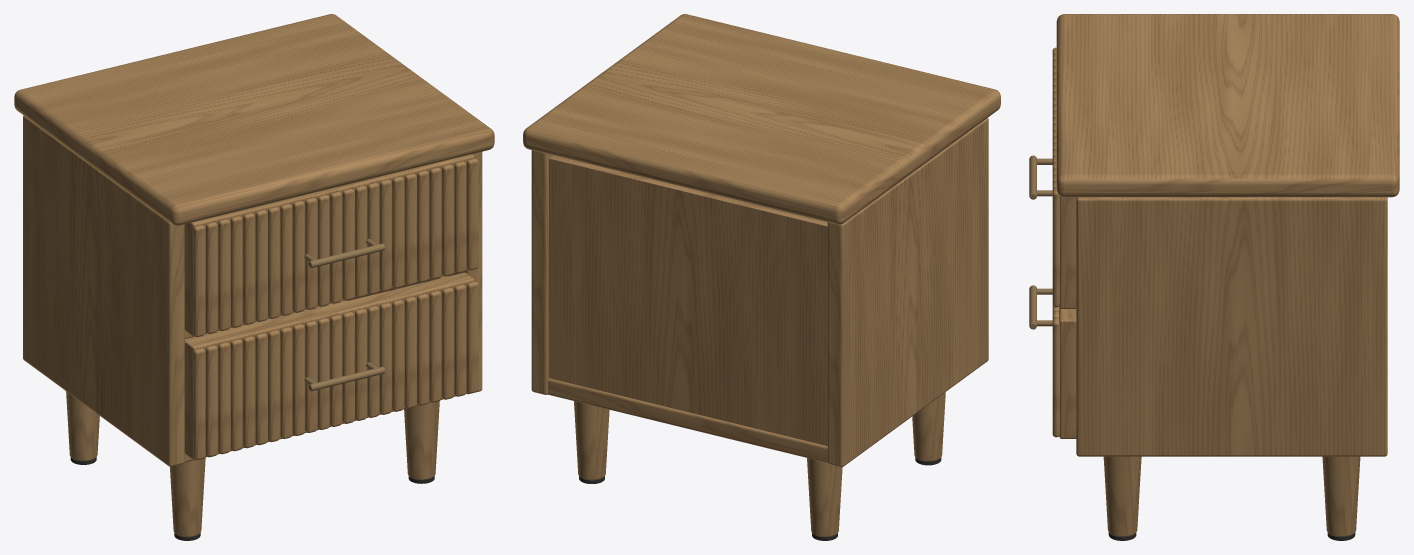
3 views of the same model, side by side, from view 1: azimuth 30°, elevation 25°; view 2: azimuth 150°, elevation 25°; view 3: azimuth 270°, elevation 25° (orthographic). The views are drawn at different scales.
Parts seen in each view (by area): view 1: Top | solid oak overhang, Cabinet | side, Drawer 0 | front core, Drawer 1 | front core, Turned oak leg.002, Turned oak leg, Turned oak leg.001, Drawer 0 | reed 01, Drawer 1 | reed 17, Drawer 1 | reed 19, Drawer 1 | reed 22, Drawer 0 | reed 03 (+44 smaller); view 2: Cabinet | inset back, Top | solid oak overhang, Cabinet | side, Cabinet | bottom, Cabinet | side.001, Turned oak leg.003, Turned oak leg.001, Turned oak leg; view 3: Cabinet | side.001, Top | solid oak overhang, Turned oak leg.002, Turned oak leg.003, Drawer 0 | front core, Drawer 1 | front core, Drawer 0 | reed 22, Drawer 1 | reed 22.
Boxes of the visible parts, x1,y1,x2,y2 form: Top | solid oak overhang: [14, 14, 494, 225]; Cabinet | side: [23, 115, 184, 466]; Drawer 0 | front core: [184, 272, 474, 459]; Drawer 1 | front core: [184, 154, 474, 336]; Turned oak leg.002: [404, 401, 439, 479]; Turned oak leg: [170, 457, 205, 536]; Turned oak leg.001: [66, 391, 99, 460]; Drawer 0 | reed 01: [205, 345, 217, 457]; Drawer 1 | reed 17: [404, 173, 416, 285]; Drawer 1 | reed 19: [429, 167, 441, 279]; Drawer 1 | reed 22: [466, 158, 478, 270]; Drawer 0 | reed 03: [230, 339, 242, 451]; Cabinet | inset back: [549, 155, 827, 445]; Top | solid oak overhang: [523, 14, 1000, 224]; Cabinet | side: [827, 118, 988, 467]; Cabinet | bottom: [547, 378, 827, 462]; Cabinet | side.001: [531, 150, 552, 394]; Turned oak leg.003: [574, 401, 609, 480]; Turned oak leg.001: [807, 458, 842, 536]; Turned oak leg: [912, 392, 945, 461]; Cabinet | side.001: [1076, 197, 1387, 456]; Top | solid oak overhang: [1056, 14, 1399, 197]; Turned oak leg.002: [1103, 456, 1141, 536]; Turned oak leg.003: [1322, 456, 1360, 536]; Drawer 0 | front core: [1059, 307, 1076, 438]; Drawer 1 | front core: [1059, 196, 1076, 308]; Drawer 0 | reed 22: [1052, 318, 1059, 437]; Drawer 1 | reed 22: [1052, 188, 1059, 307].
Bounding box in the file's own units: 0.51 × 0.545 × 0.4805.
4 materials, 1 textured.
